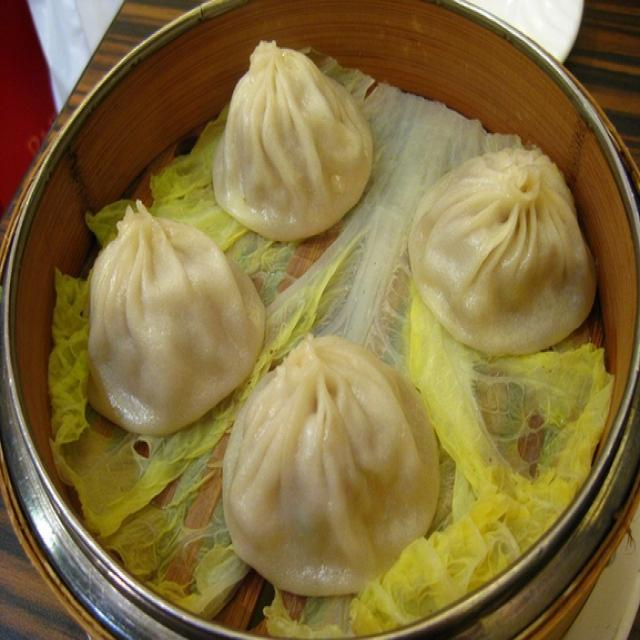带馅早点: (60, 27, 611, 610)
